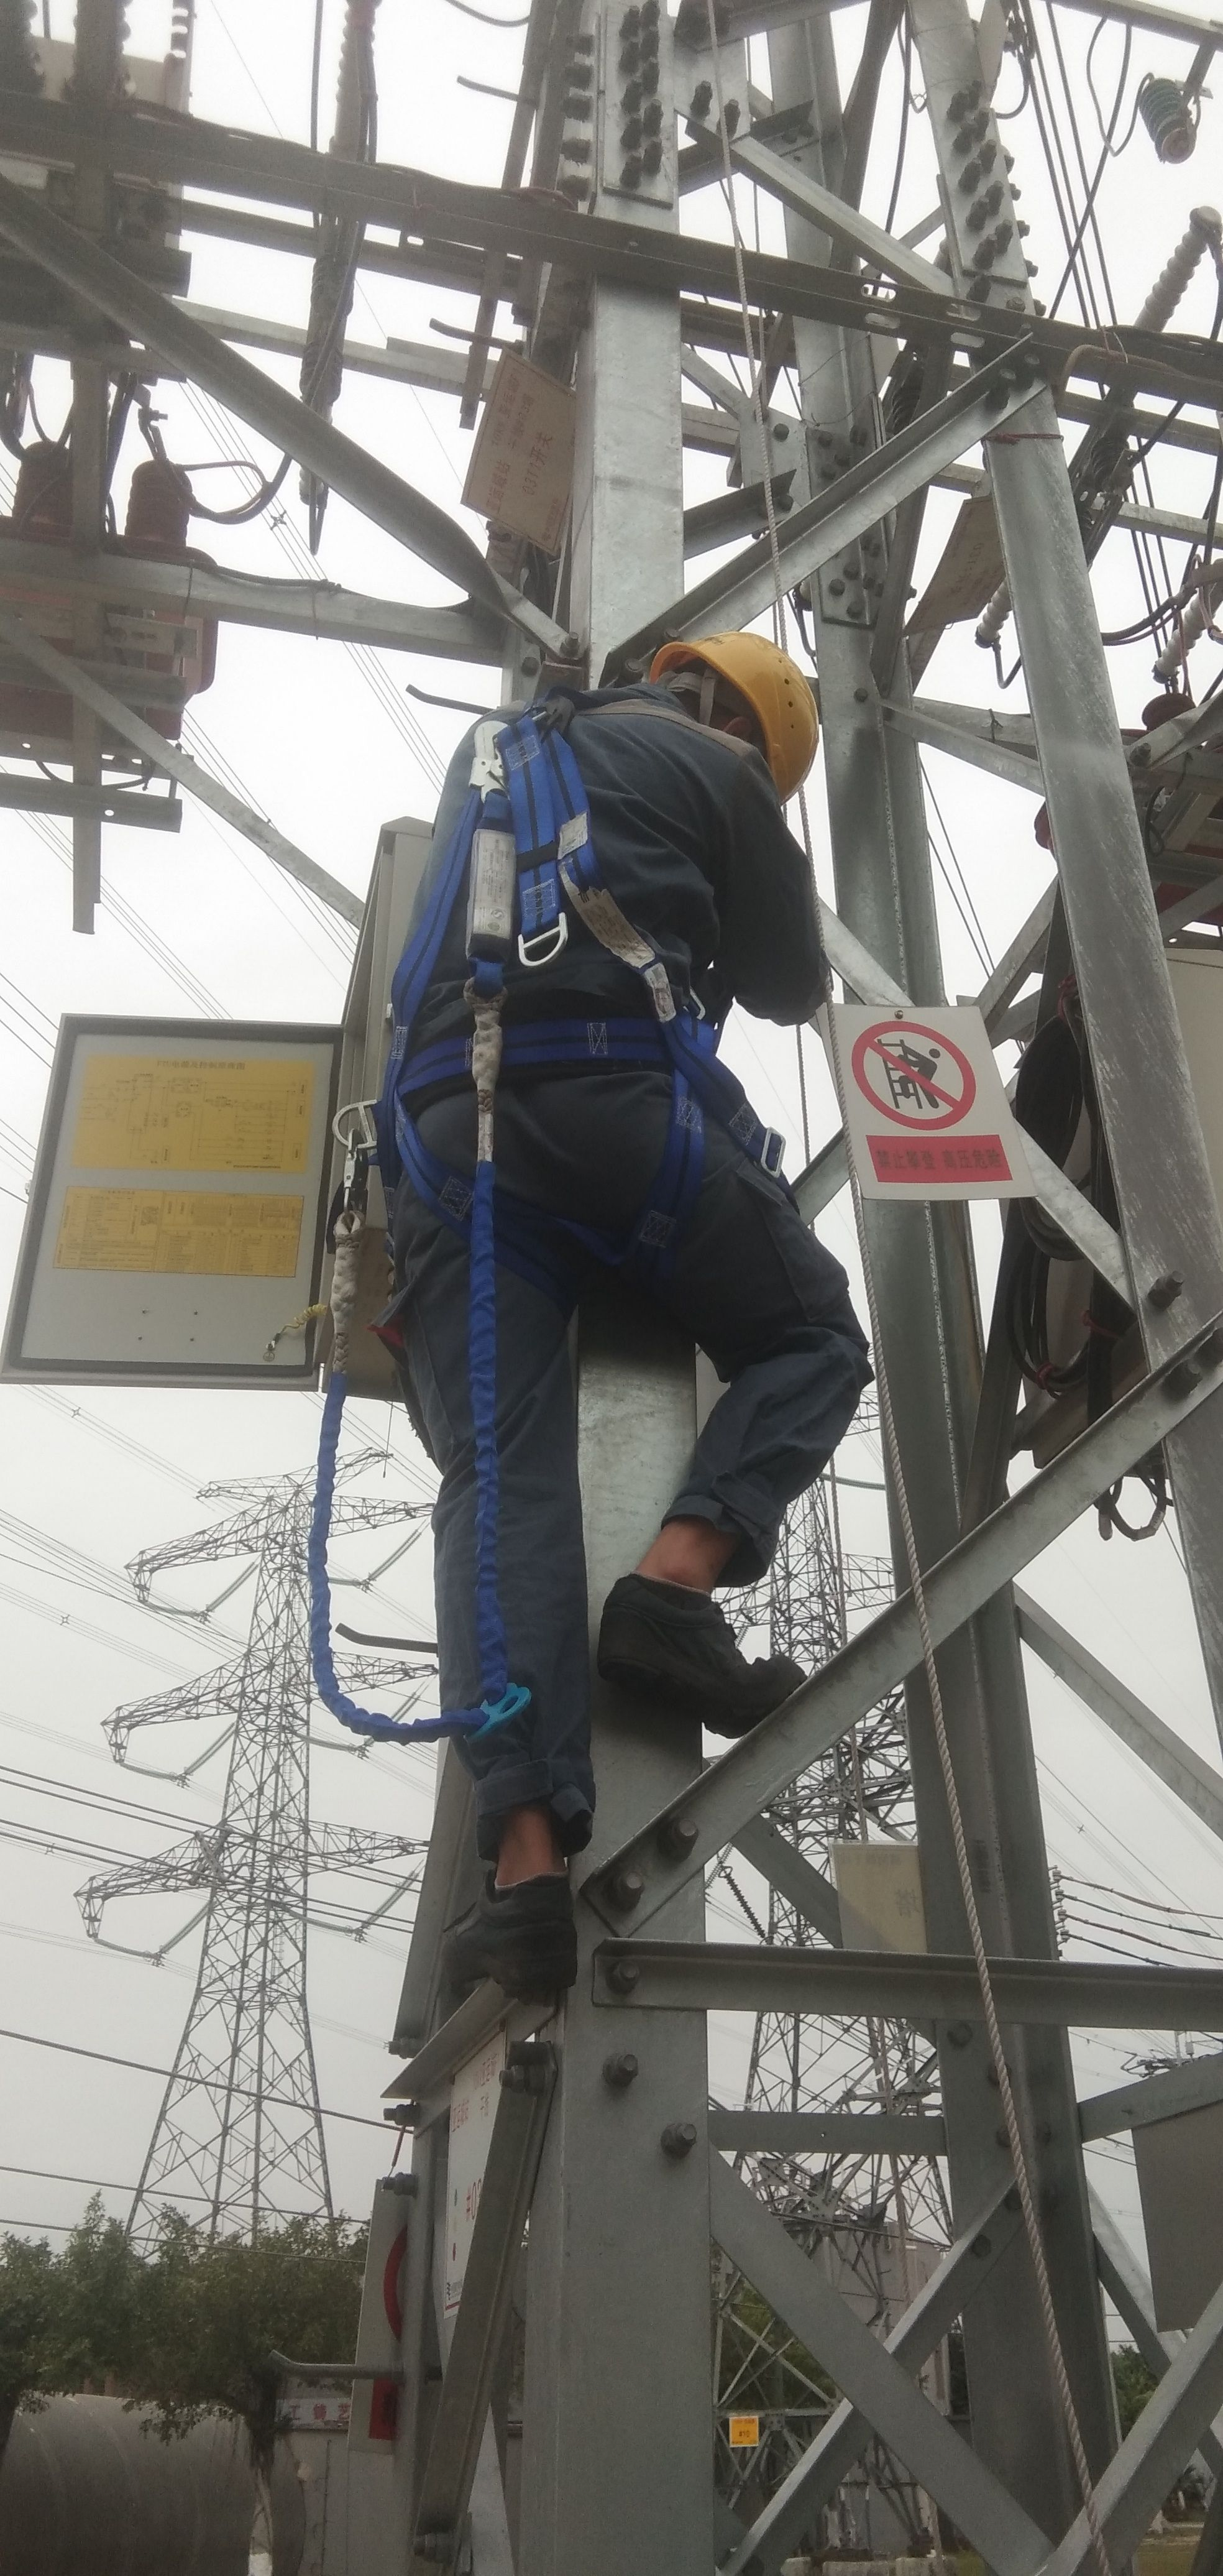downsuit: (409, 1129, 870, 1814)
upsuit: (379, 678, 829, 1097)
